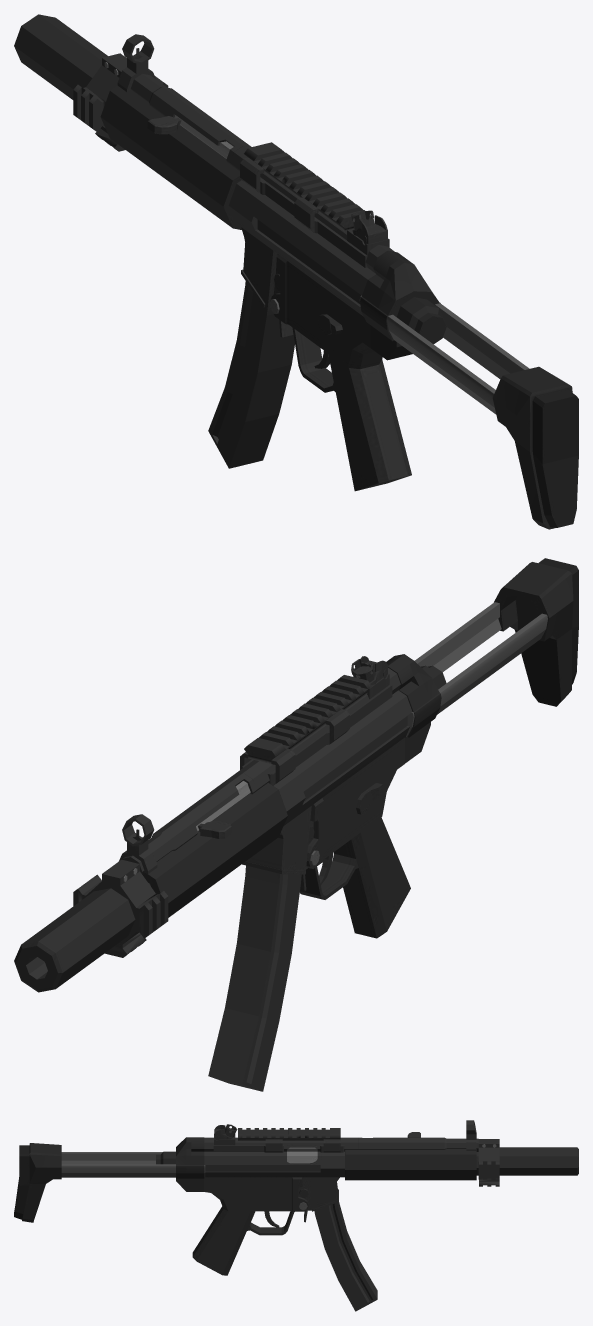
The model's file is smg_mp5sd.glb.
3 views of the same model, one above another, from view 1: azimuth 30°, elevation 25°; view 2: azimuth 150°, elevation 25°; view 3: azimuth 270°, elevation 25° (orthographic). The views are drawn at different scales.
Parts seen in each view (by area): view 1: body, Handguard_SD, Butt_Pad, Magazine, Pistol_Grip, Stock_Collapsable, Piccatiny_Rail, Arm_Left, Arm_Right, Cylinder, Left_Bump_Mount, Piccatiny_Rail_Left (+2 smaller); view 2: body, Handguard_SD, Magazine, Butt_Pad, Pistol_Grip, Piccatiny_Rail, Arm_Left, Stock_Collapsable, Arm_Right, Piccatiny_rail_SD_Barrel, Left_Bump_Mount, Piccatiny_Rail_Left (+1 smaller); view 3: body, Handguard_SD, Magazine, Pistol_Grip, Butt_Pad, Arm_Right, Stock_Collapsable, Piccatiny_Rail, Arm_Left, Piccatiny_rail_SD_Barrel, ejection_port, Piccatiny_Rail_Right (+2 smaller).
Boxes of the visible parts, box(x1,y1,x2,y2) form: body: box(131, 73, 394, 369); Handguard_SD: box(14, 14, 241, 229); Butt_Pad: box(492, 366, 578, 529); Magazine: box(208, 281, 294, 468); Pistol_Grip: box(292, 327, 411, 491); Stock_Collapsable: box(360, 250, 440, 360); Piccatiny_Rail: box(244, 142, 364, 231); Arm_Left: box(359, 295, 496, 414); Arm_Right: box(435, 303, 529, 379); Cylinder: box(397, 297, 446, 344); Left_Bump_Mount: box(242, 177, 367, 267); Piccatiny_Rail_Left: box(73, 84, 105, 132); body: box(122, 667, 412, 874); Handguard_SD: box(14, 782, 287, 992); Magazine: box(208, 865, 301, 1091); Butt_Pad: box(494, 558, 578, 706); Pistol_Grip: box(299, 817, 410, 938); Piccatiny_Rail: box(244, 675, 371, 763); Arm_Left: box(406, 613, 547, 736); Stock_Collapsable: box(386, 654, 441, 763); Arm_Right: box(414, 602, 501, 671); Piccatiny_rail_SD_Barrel: box(86, 859, 155, 944); Left_Bump_Mount: box(267, 684, 392, 785); Piccatiny_Rail_Left: box(136, 891, 168, 938); body: box(204, 1137, 478, 1211); Handguard_SD: box(345, 1147, 578, 1180); Magazine: box(314, 1202, 377, 1311); Pistol_Grip: box(192, 1206, 294, 1275); Butt_Pad: box(14, 1143, 61, 1222); Arm_Right: box(61, 1164, 205, 1177); Stock_Collapsable: box(176, 1137, 204, 1191); Piccatiny_Rail: box(238, 1128, 340, 1141); Arm_Left: box(61, 1152, 162, 1164); Piccatiny_rail_SD_Barrel: box(478, 1139, 499, 1179); ejection_port: box(287, 1147, 317, 1163); Piccatiny_Rail_Right: box(479, 1161, 499, 1179).
Bounding box in the file's own units: 0.0552 × 0.2408 × 0.66.
Materials: 4 (4 with a texture image).
